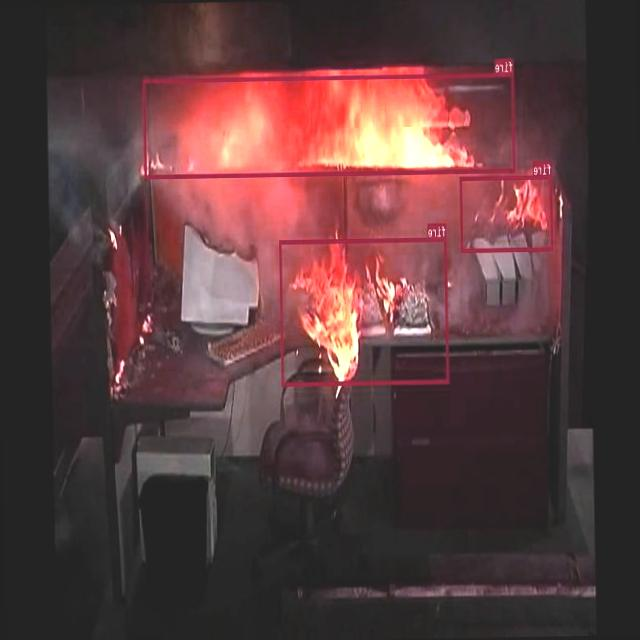fire: (142, 72, 516, 177), (280, 236, 450, 385), (460, 174, 553, 251)
